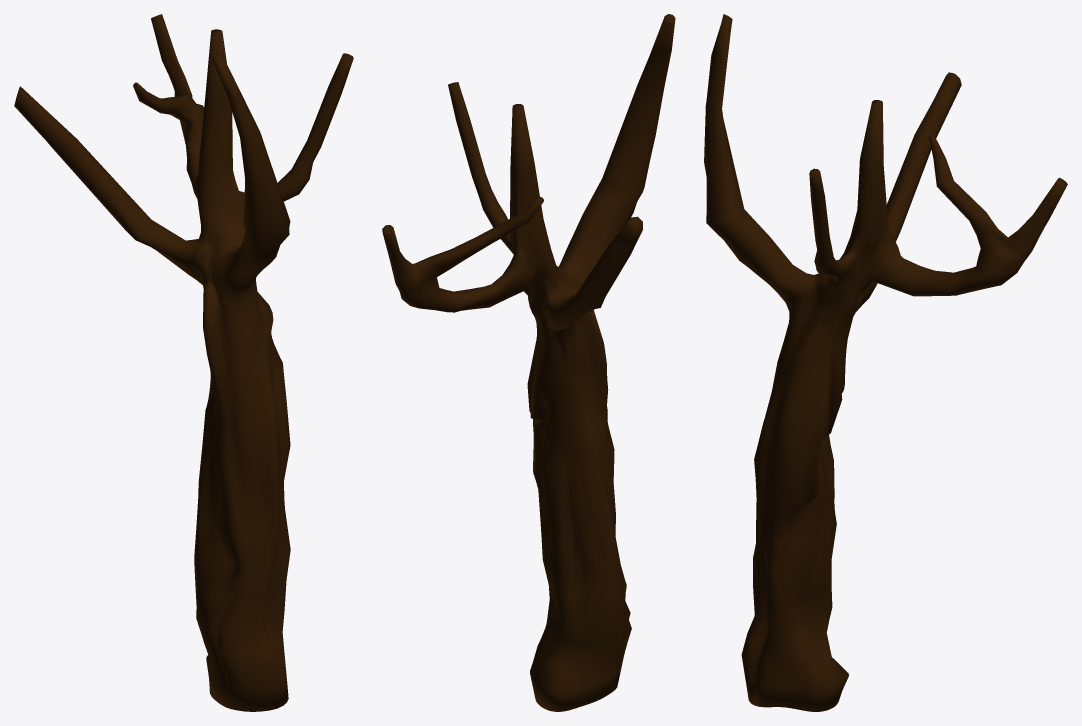
The model's file is Tree bottom 1.fbx.
3 renders of one model, left to right at view 1: azimuth 30°, elevation 25°; view 2: azimuth 150°, elevation 25°; view 3: azimuth 270°, elevation 25°, orthographic. The views are drawn at different scales.
Visible parts, largest first — view 1: Low poly; view 2: Low poly; view 3: Low poly.
Part boxes in pixels (x1,y1,x2,y2): Low poly: (14, 14, 353, 711); Low poly: (382, 14, 675, 711); Low poly: (704, 14, 1067, 711).
Size of the model in its own units: 1582 by 3859 by 1935.
